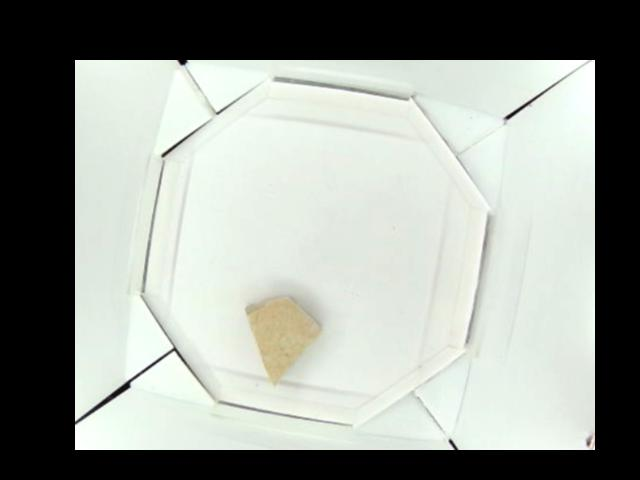China: (244, 294, 321, 389)
